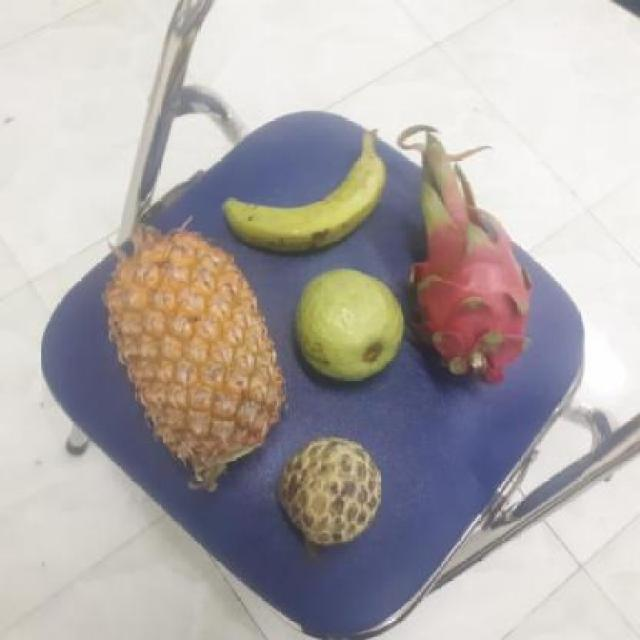banana: (217, 143, 385, 254)
dragon fruit: (401, 198, 528, 372)
guava: (289, 268, 405, 382)
pineapple: (101, 229, 279, 480)
sugar apple: (271, 436, 382, 547)
